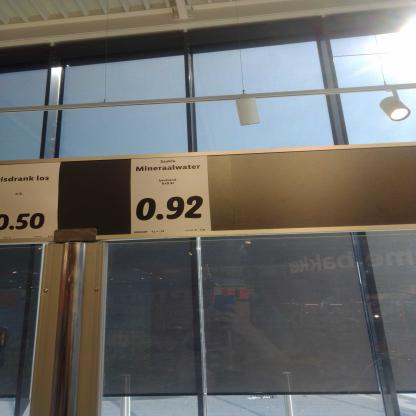prtg: (131, 157, 213, 235), (1, 163, 62, 240)
